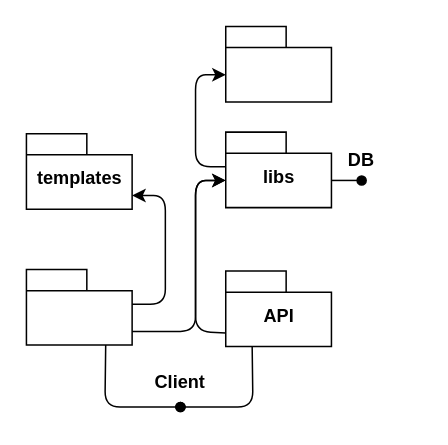
Image size: 448x445. Some labels were removed from this diagram. Here are the shapes that lost their labels. From the top down, the box of each, then its label:
(224, 25, 331, 102): Model
(25, 268, 132, 345): Frontend
